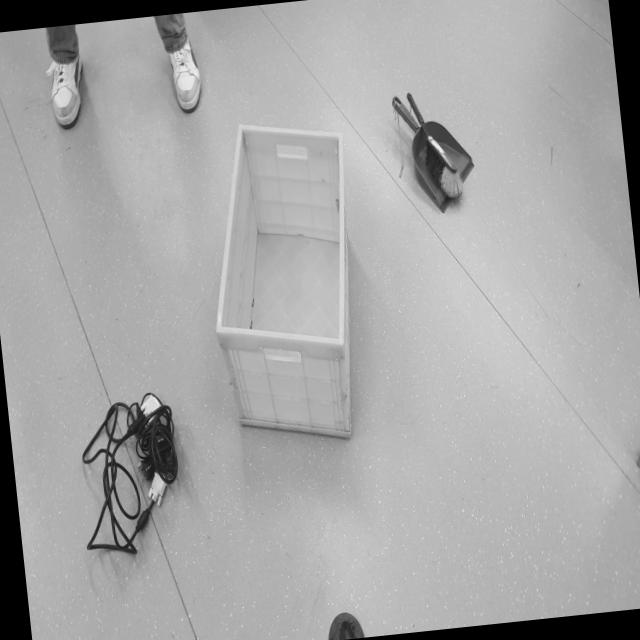box: (188, 98, 378, 468)
